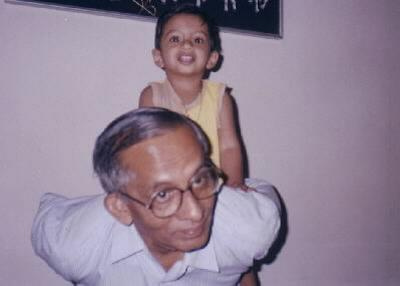person: (34, 109, 281, 286)
